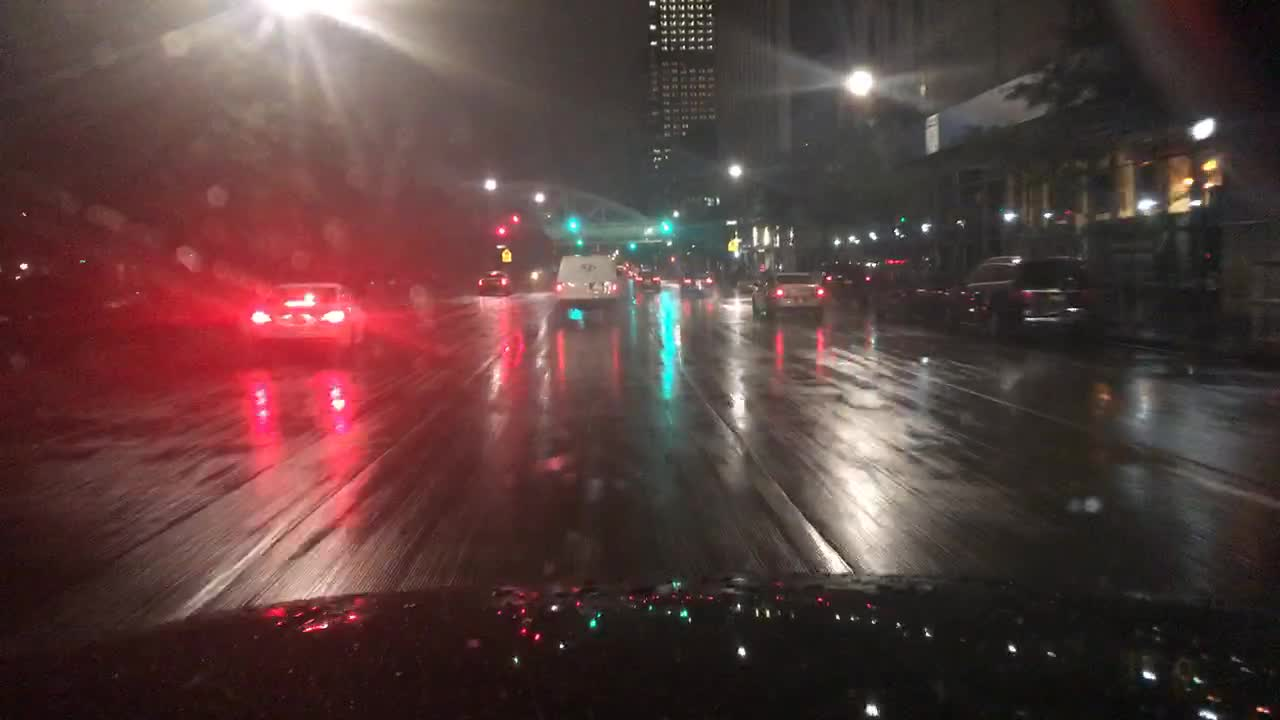car: (0, 263, 140, 367), (942, 252, 1091, 346), (246, 279, 368, 354), (875, 272, 958, 325), (749, 270, 824, 321), (553, 254, 622, 307), (826, 260, 868, 307), (679, 267, 713, 297), (475, 268, 512, 295), (635, 268, 660, 288), (615, 259, 629, 274), (629, 267, 639, 283)
traffic light: (495, 218, 509, 238), (567, 212, 578, 232), (509, 208, 521, 225), (661, 220, 671, 236), (627, 239, 639, 251), (572, 238, 585, 246)
traffic sign: (500, 246, 512, 262), (726, 238, 737, 251)
